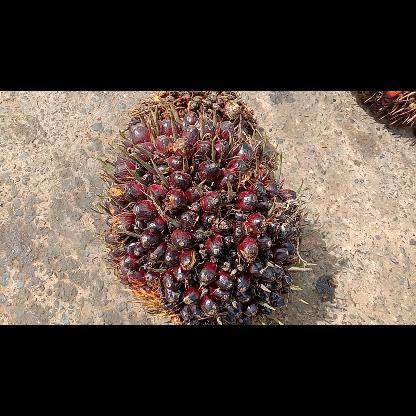Kurang masak: (92, 102, 314, 324)
TBS abnormal: (123, 91, 263, 137)
